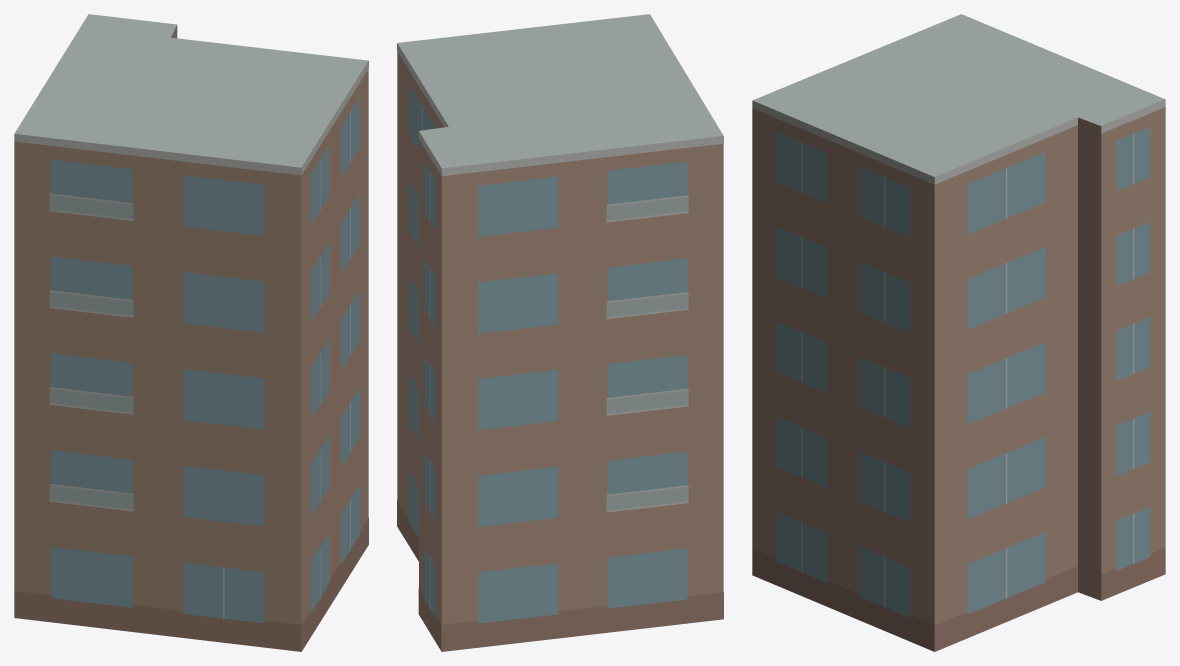
Rendered from survey-upis-33013428.glb.
3 views of the same model, side by side, from view 1: azimuth 30°, elevation 25°; view 2: azimuth 150°, elevation 25°; view 3: azimuth 270°, elevation 25° (orthographic).
Parts seen in each view (by area): view 1: survey-upis-33013428.tmp; view 2: survey-upis-33013428.tmp; view 3: survey-upis-33013428.tmp.
Part boxes in pixels (box(x1,y1,x2,y2)): survey-upis-33013428.tmp: box(14, 14, 368, 651); survey-upis-33013428.tmp: box(397, 14, 723, 651); survey-upis-33013428.tmp: box(752, 14, 1165, 651).
Size of the model in its own units: 11.24 by 15.25 by 12.04.
